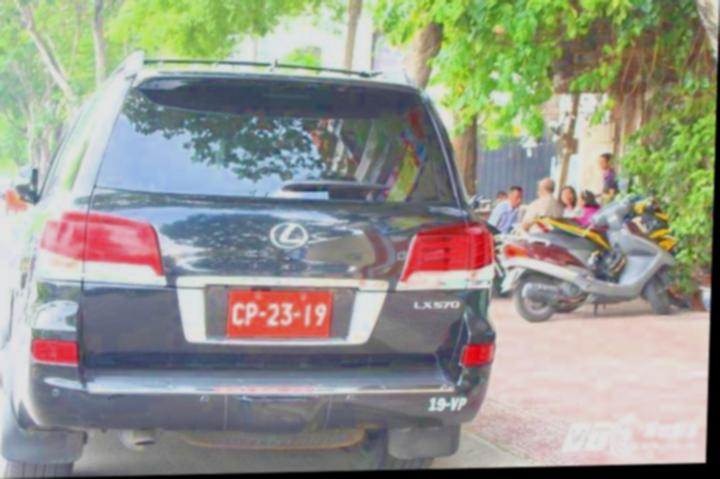License_Plate: (219, 288, 336, 339)
